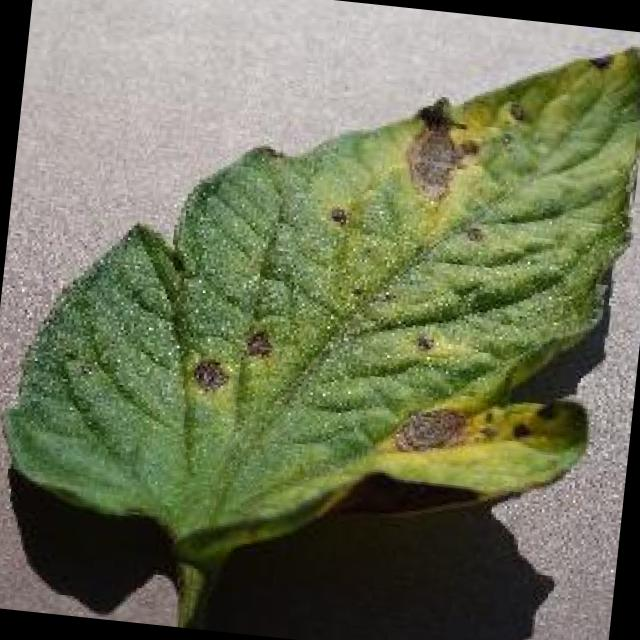Tomato_Early_Blight: (125, 81, 640, 502)
